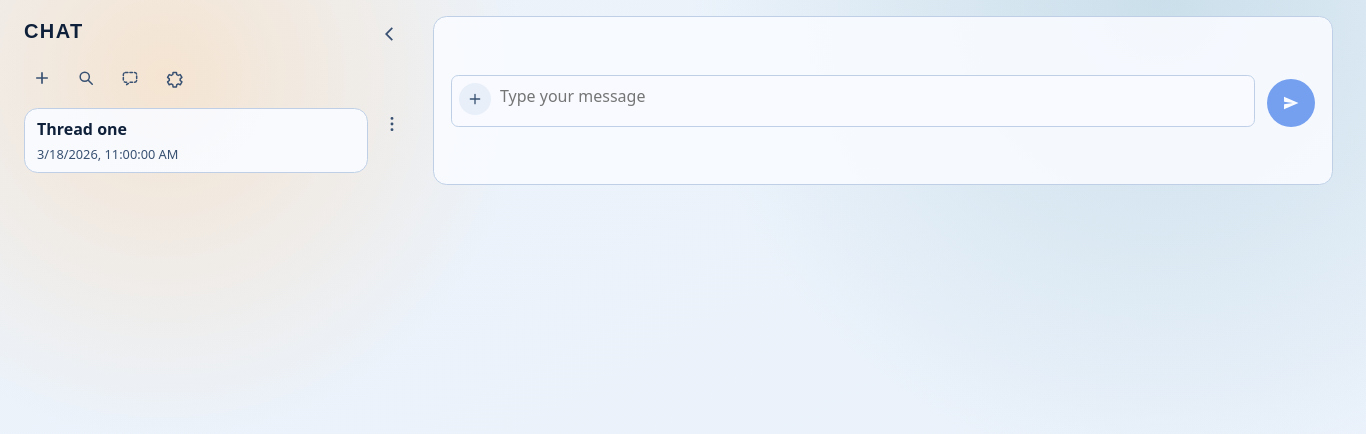
Test case: ChatPlaygroundPage › reloads conversation history with debounced search filters
The image size is (1366, 434).
Expected: the text box labelled "message" is enabled, [451,75,1255,127]
Expected: the button "Thread one 3/18/2026, 11:00:00 AM" is shown, [24,108,368,173]
Click the button named "Search conversations": (86, 78) [68,60,104,96]
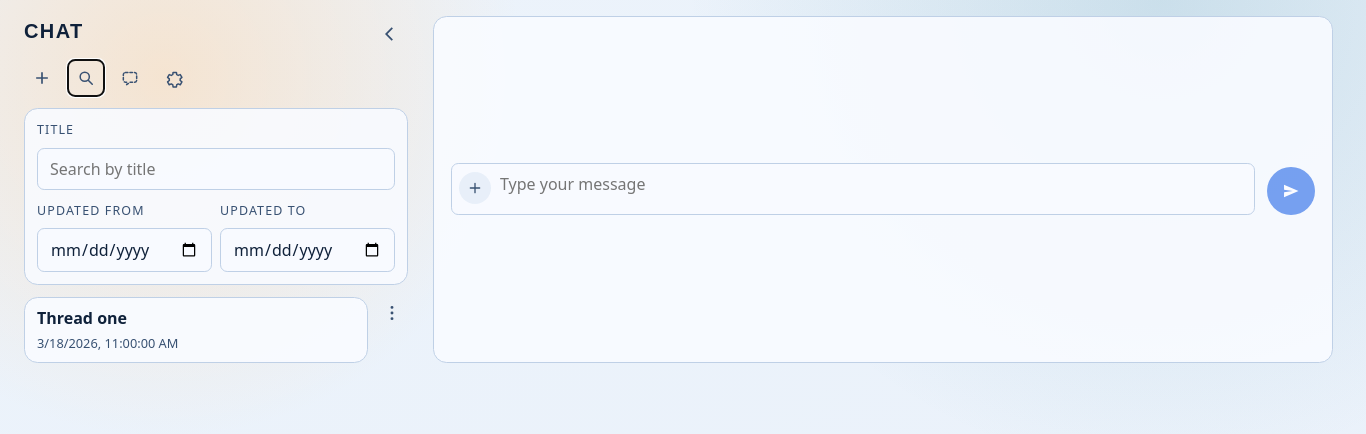
In the search field labelled "Title": (216, 169) [37,148,395,190], type "archive"
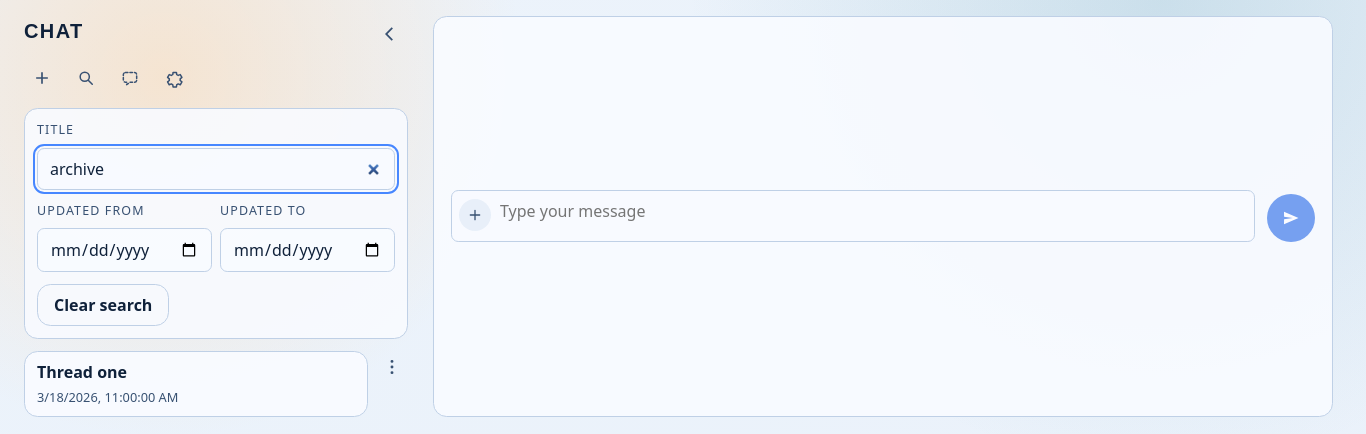
In the date field labelled "Updated from": (124, 250) [37,228,212,272], type "2026-03-01"
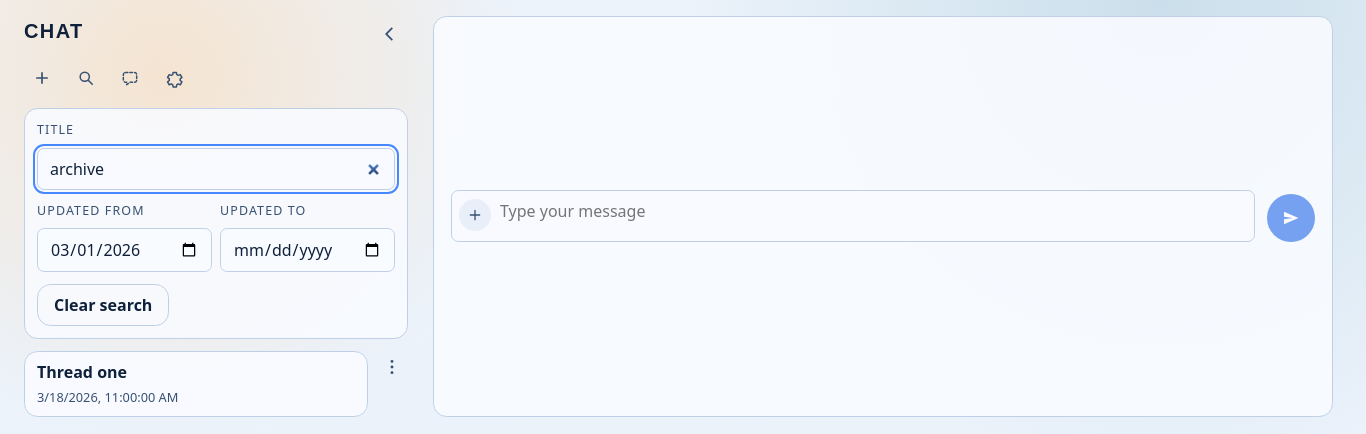
In the date field labelled "Updated to": (308, 250) [220,228,395,272], type "2026-03-18"
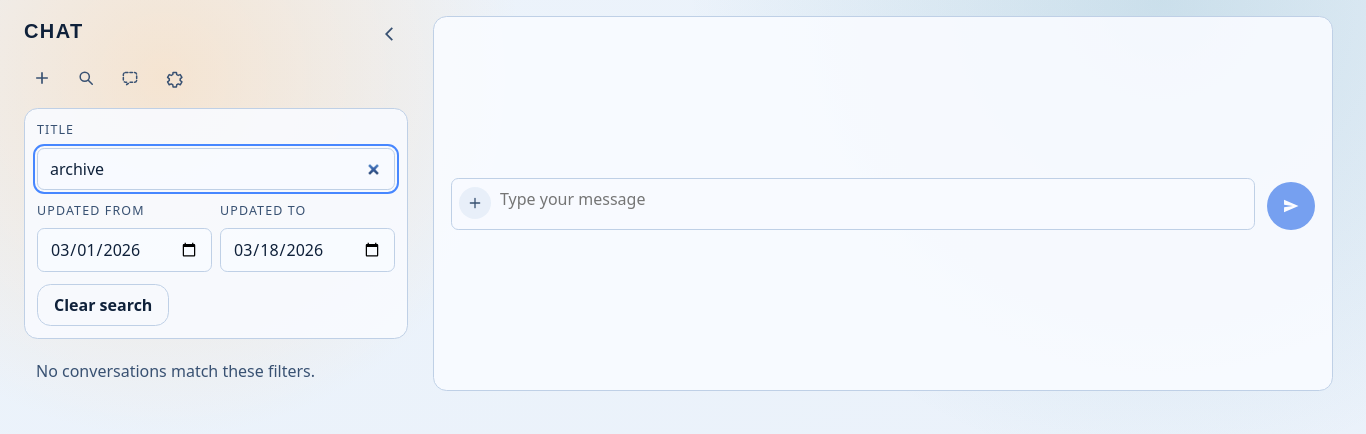
Expected: the text "No conversations match these filters." is shown, [36,360,315,382]
Expected: the button "Thread one" is gone
